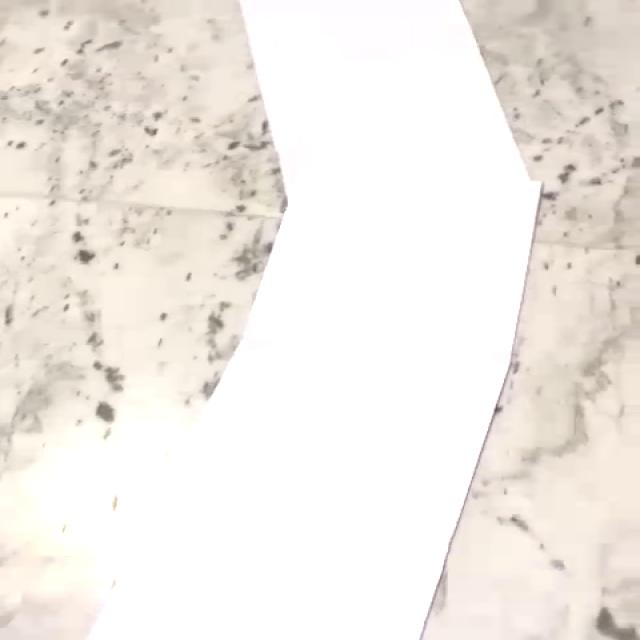road: (85, 0, 543, 640)
